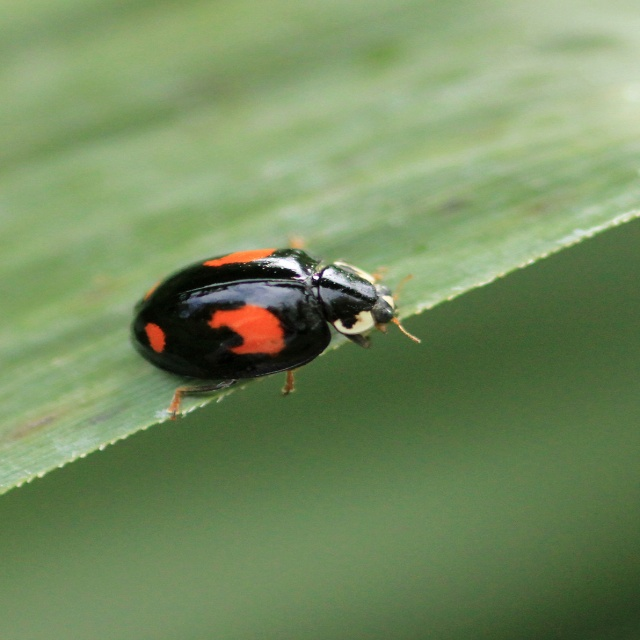Ladybug: (130, 232, 421, 420)
